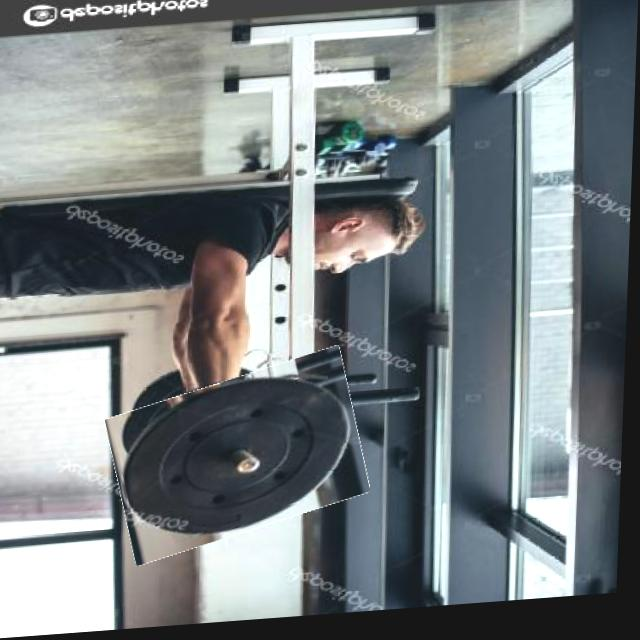barbell: (112, 363, 371, 558)
